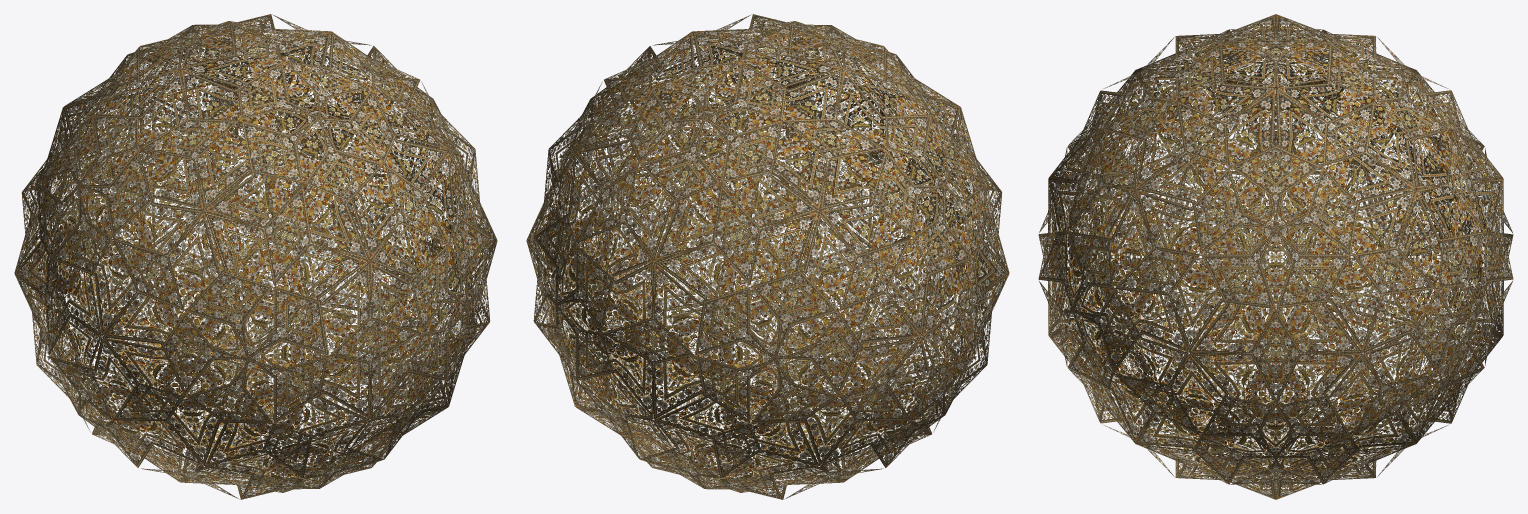
File: SmallHexagonalHexecontahedron12.gltf
The picture shows the model from 3 angles, left to right: view 1: azimuth 30°, elevation 25°; view 2: azimuth 150°, elevation 25°; view 3: azimuth 270°, elevation 25°; orthographic projection.
Parts seen in each view (by area): view 1: SmallHexagonalHexecontahedron; view 2: SmallHexagonalHexecontahedron; view 3: SmallHexagonalHexecontahedron.
Part boxes in pixels (bbox=[...]): SmallHexagonalHexecontahedron: bbox=[14, 14, 497, 499]; SmallHexagonalHexecontahedron: bbox=[526, 14, 1009, 499]; SmallHexagonalHexecontahedron: bbox=[1038, 14, 1513, 499].
Bounding box in the file's own units: 2.73 × 2.73 × 2.73.
Materials: 1 (1 with a texture image).
